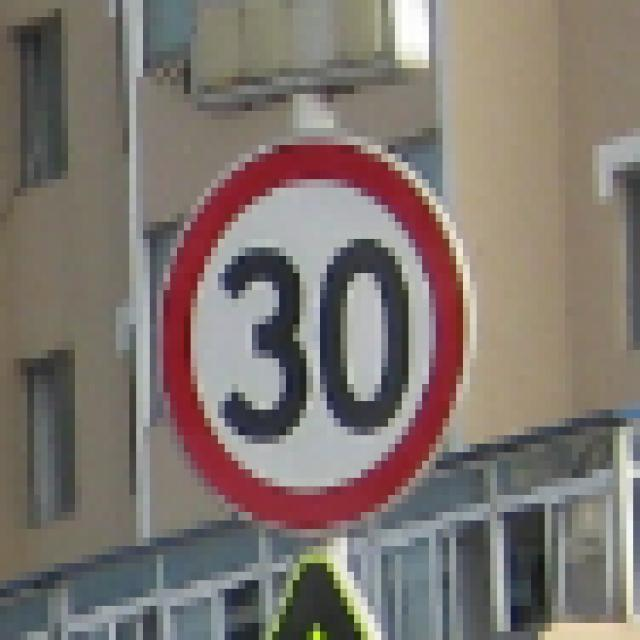Speed: (158, 129, 472, 534)
